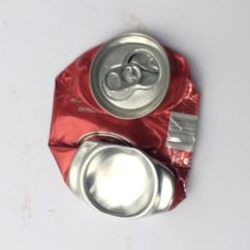Metal: (43, 35, 202, 216)
